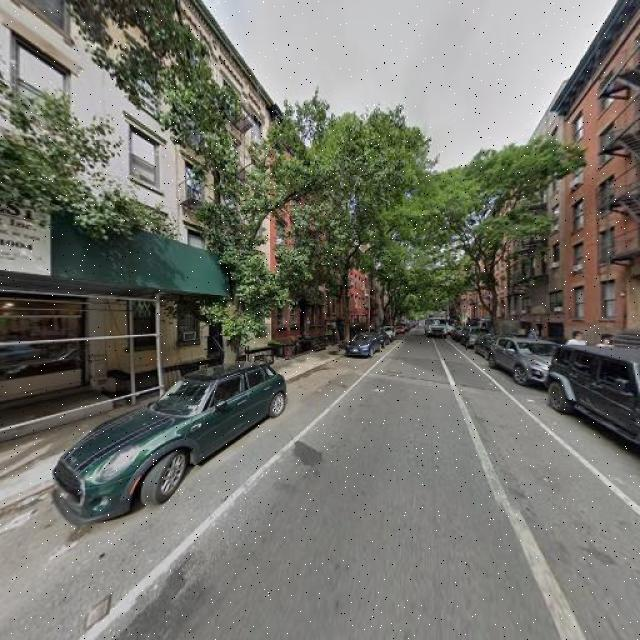Building: (1, 1, 269, 432), (565, 1, 640, 374)
